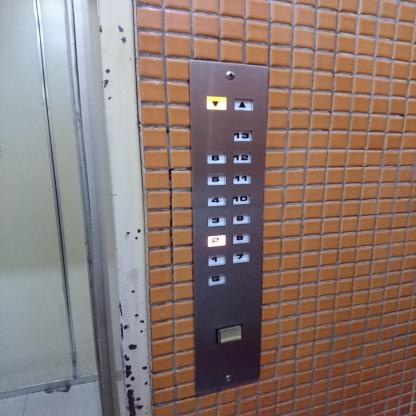1: (207, 253, 226, 267)
10: (232, 192, 251, 206)
11: (232, 173, 251, 185)
12: (233, 151, 252, 164)
13: (233, 128, 253, 142)
2: (207, 233, 227, 248)
3: (207, 214, 226, 227)
4: (206, 194, 226, 207)
5: (206, 173, 226, 186)
6: (206, 150, 227, 164)
7: (232, 251, 250, 264)
8: (232, 232, 250, 244)
9: (232, 213, 251, 225)
G: (208, 272, 226, 287)
down: (206, 95, 227, 110)
empty: (215, 323, 243, 344)
up: (234, 98, 253, 110)
